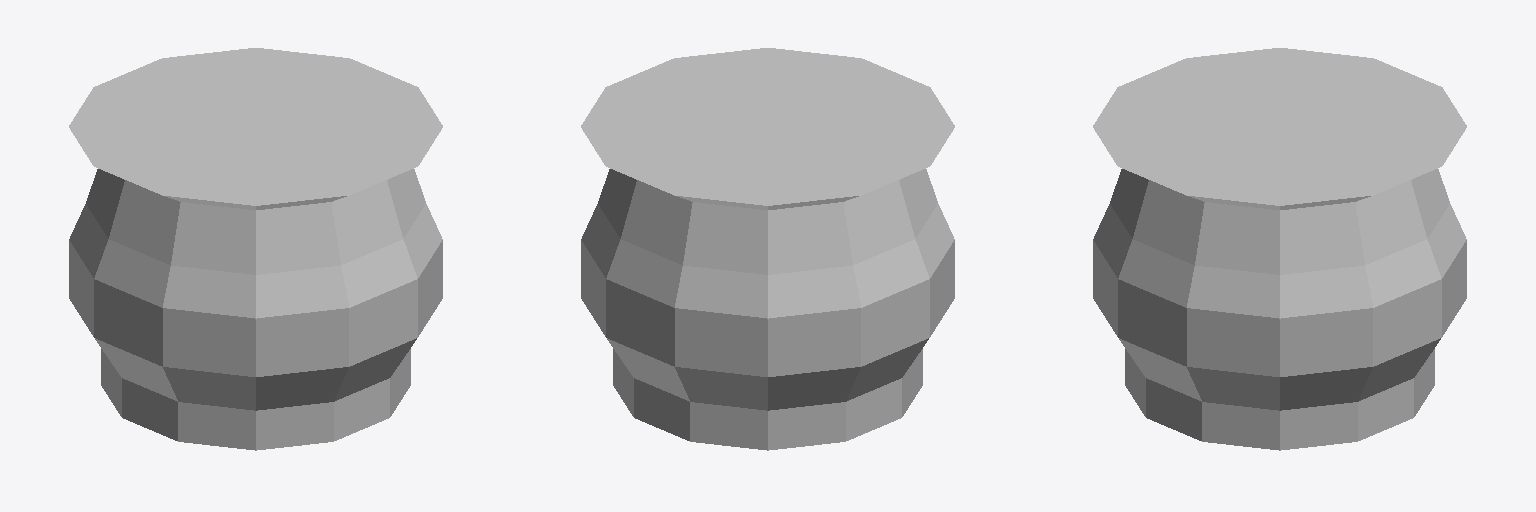
File: vazo.obj
3 renders of one model, left to right at view 1: azimuth 30°, elevation 25°; view 2: azimuth 150°, elevation 25°; view 3: azimuth 270°, elevation 25°, orthographic.
Visible parts, largest first — view 1: Cylinder; view 2: Cylinder; view 3: Cylinder.
Part boxes in pixels (x1,y1,x2,y2): Cylinder: (69,48,442,450); Cylinder: (581,48,954,450); Cylinder: (1093,48,1466,450).
Size of the model in its own units: 2.42 by 1.84 by 2.42.